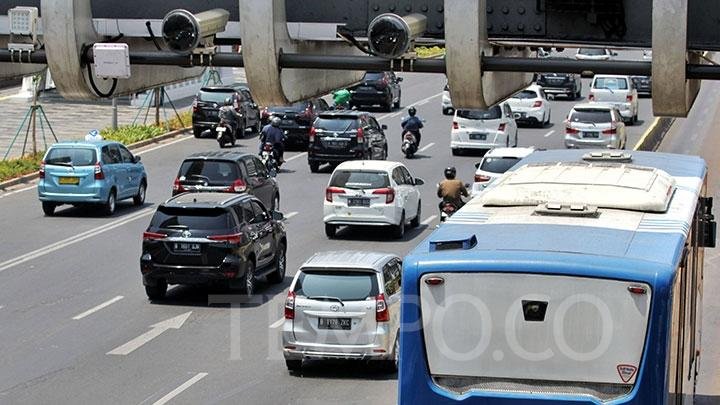car: (398, 146, 702, 405), (146, 192, 290, 298), (280, 253, 405, 372), (39, 142, 148, 219), (174, 154, 279, 225), (327, 161, 423, 233), (307, 110, 385, 168), (194, 84, 257, 141), (566, 104, 627, 160), (449, 104, 516, 154), (344, 61, 402, 112), (589, 77, 639, 129), (497, 85, 552, 126)
motorbike: (434, 165, 467, 239), (254, 112, 286, 175), (216, 98, 240, 149), (400, 109, 422, 161), (333, 88, 350, 115)
